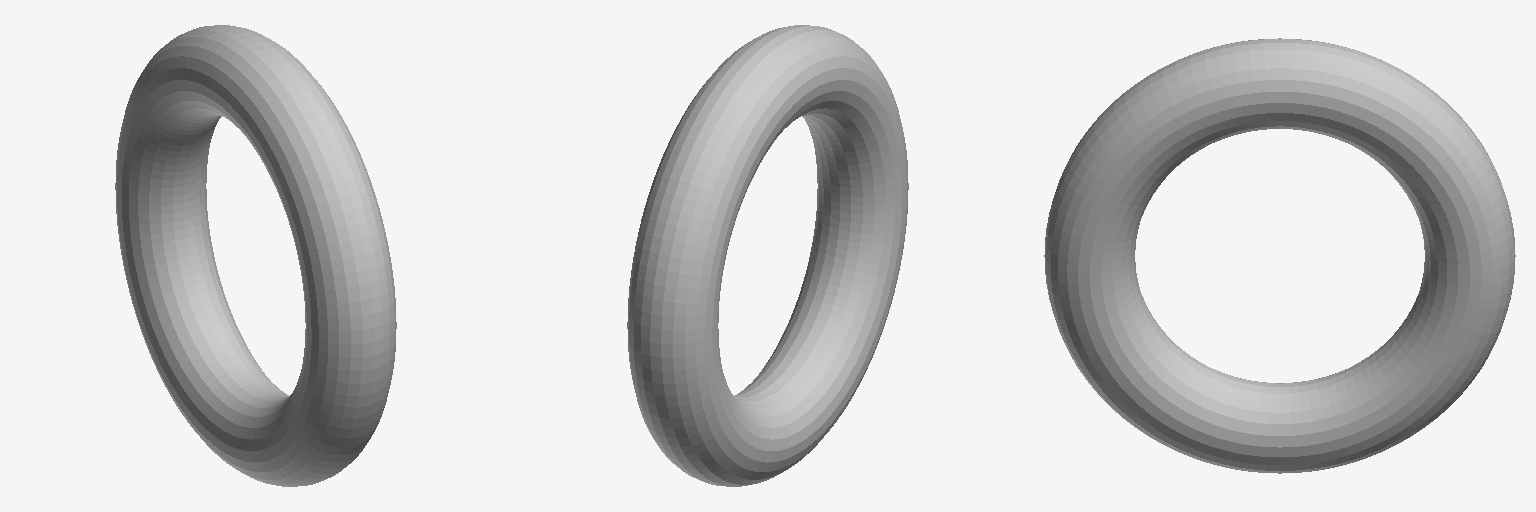
The model's file is goal_open.obj.
The picture shows the model from 3 angles: view 1: azimuth 30°, elevation 25°; view 2: azimuth 150°, elevation 25°; view 3: azimuth 270°, elevation 25°; orthographic projection.
Parts seen in each view (by area): view 1: Torus; view 2: Torus; view 3: Torus.
Boxes of the visible parts, <box> form: Torus: <box>115,25,396,486</box>; Torus: <box>627,25,908,486</box>; Torus: <box>1044,38,1515,473</box>.
Bounding box in the file's own units: 0.4777 × 2.47 × 2.47.